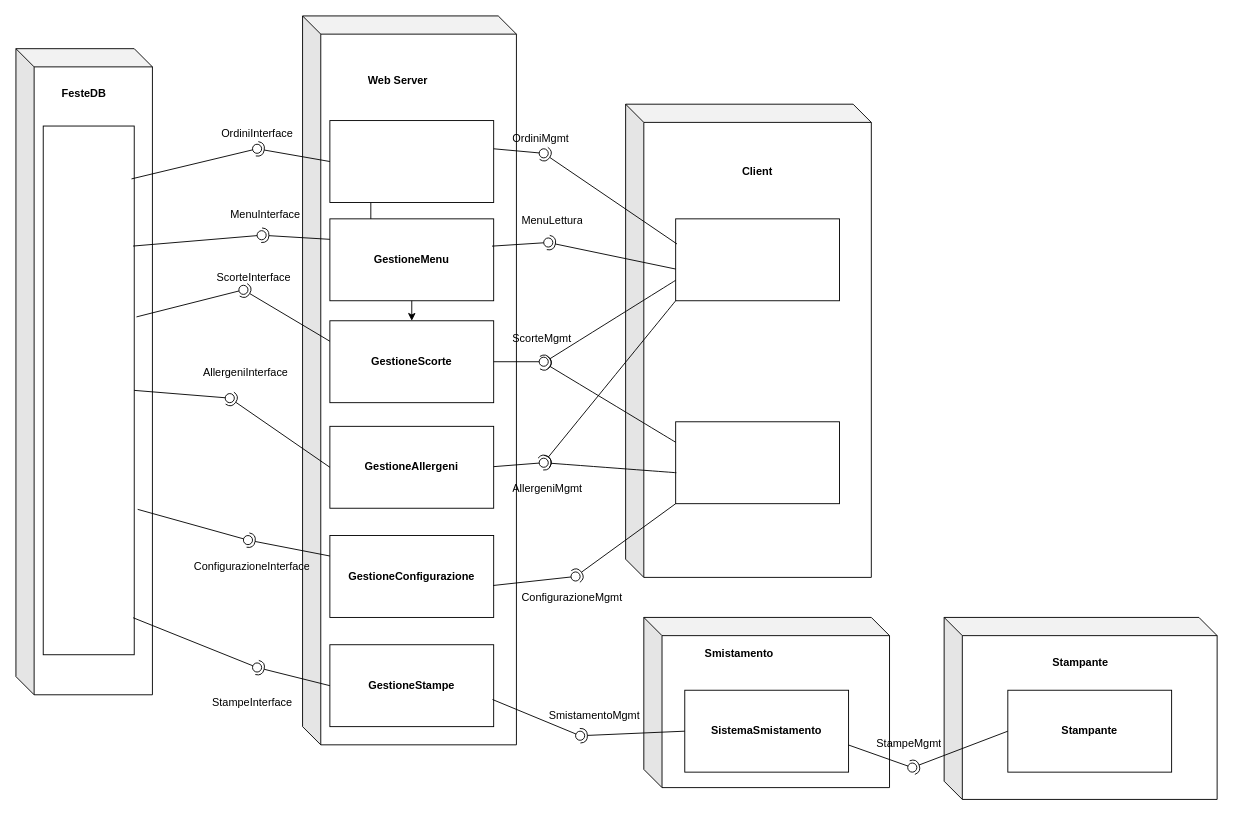
This 1233x824 diagram has some shape labels left out. The shapes that lost their labels are listed below. From the top down, each one's box as (x1, y1, x2, y2) in pixels, then its label:
(329, 120, 494, 202): GestioneOrdini
(675, 218, 839, 301): WebAppCassa
(42, 125, 134, 655): Database
(675, 421, 839, 504): WebAppBackOffice
